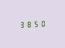eight: (25, 20, 31, 28)
five: (32, 19, 38, 27)
three: (18, 20, 24, 28)
zero: (39, 19, 45, 27)
